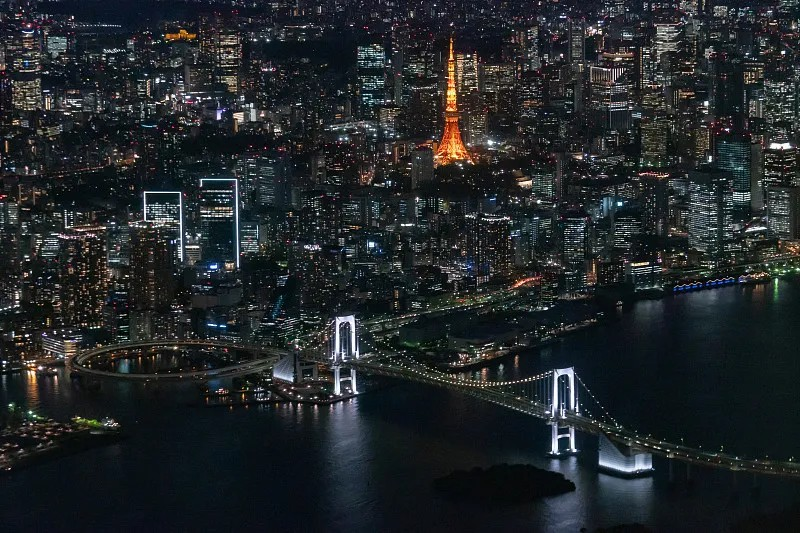Tokyo: (429, 35, 477, 167)
